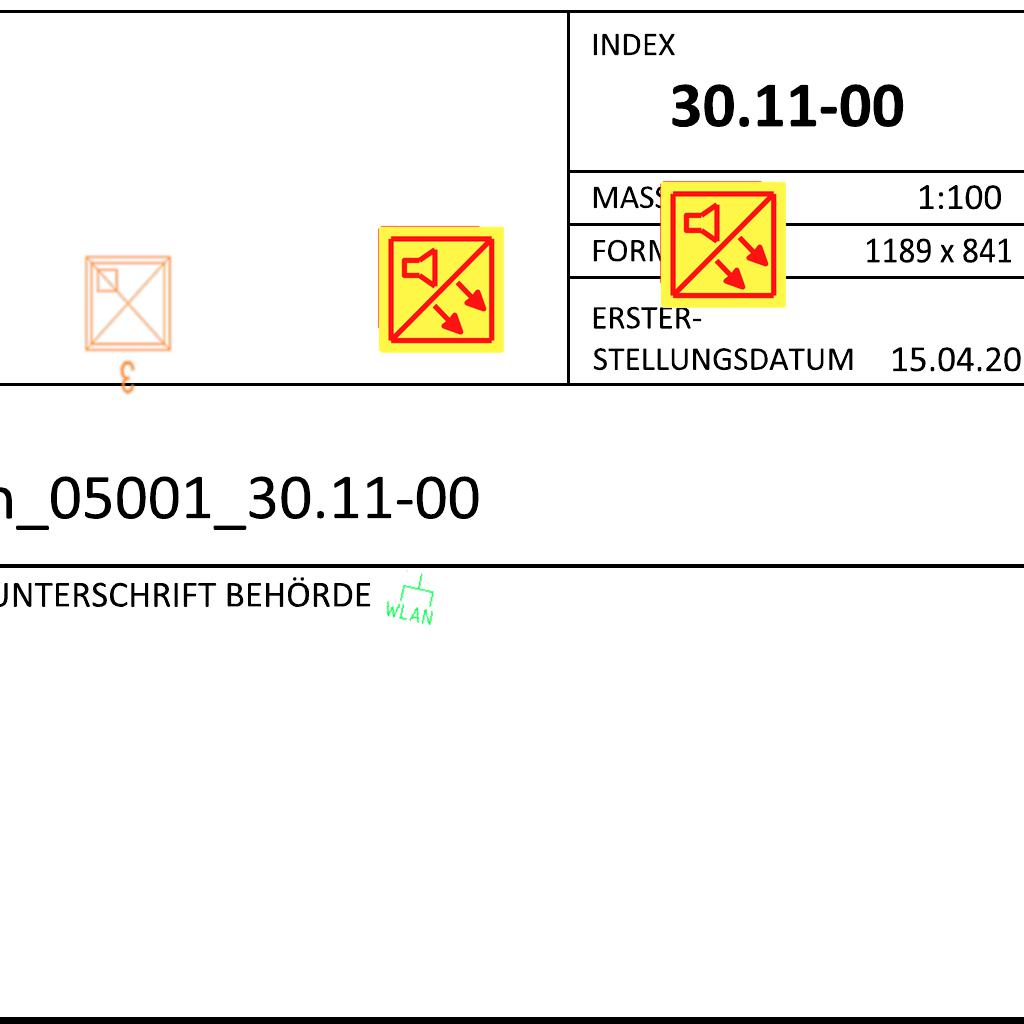Einbaudownlights_LED_Konferenzraeume: (78, 249, 182, 399)
OKW_Multisensormelder_(Kombination_optischer_Rauch-Kahlenmonoxid_Waerme-Melder): (375, 224, 507, 356), (657, 179, 789, 311)
WLAN: (381, 566, 443, 628)
